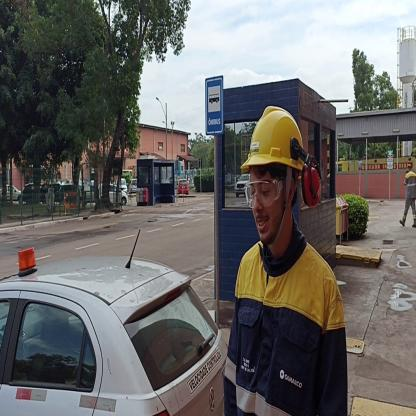C_eletrica: (236, 245, 343, 416)
Capacete: (247, 103, 308, 171)
